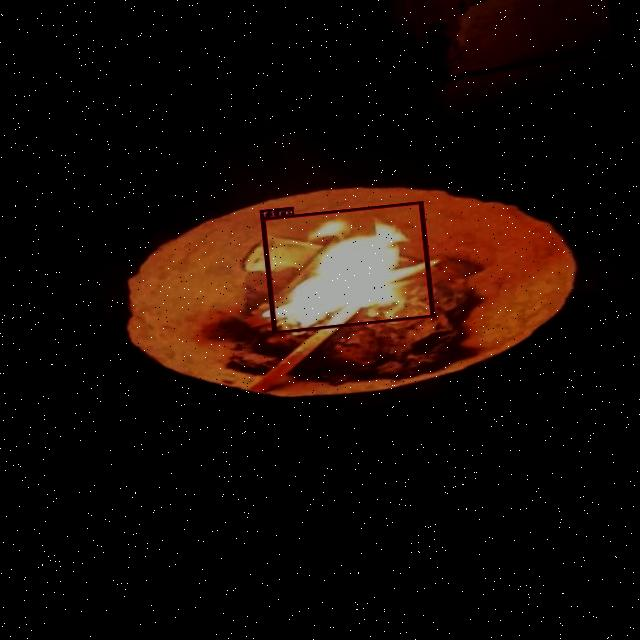fire: (260, 200, 433, 332)
